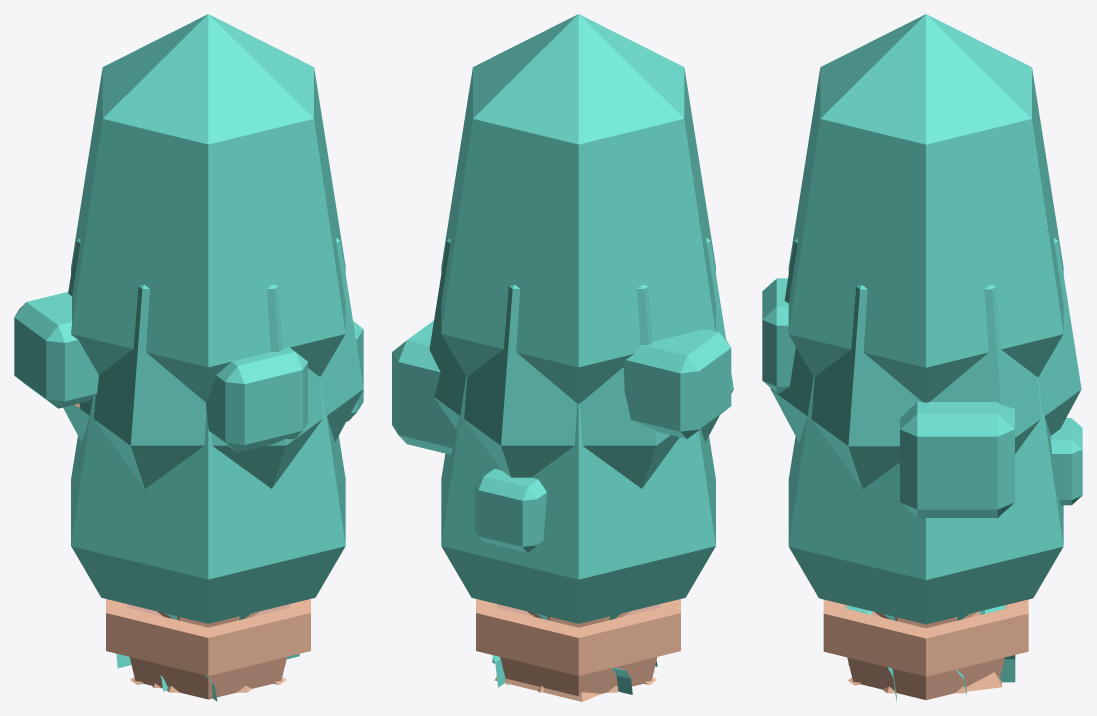
File: kenney-nature.glb
The picture shows the model from 3 angles, left to right: view 1: azimuth 30°, elevation 25°; view 2: azimuth 150°, elevation 25°; view 3: azimuth 270°, elevation 25°; orthographic projection.
Visible parts, largest first — view 1: tree_default, tree_fat, tree_oak, tree_detailed, pot_large; view 2: tree_default, tree_fat, tree_oak, tree_detailed, pot_large, grass_large; view 3: tree_default, tree_fat, tree_oak, tree_detailed, pot_large, grass_large.
Part boxes in pixels (x1,y1,x2,y2): tree_default: [71, 14, 345, 402]; tree_fat: [71, 376, 345, 623]; tree_oak: [63, 237, 363, 684]; tree_detailed: [14, 292, 363, 452]; pot_large: [106, 599, 310, 699]; tree_default: [441, 14, 715, 403]; tree_fat: [441, 376, 715, 623]; tree_oak: [429, 237, 733, 684]; tree_detailed: [392, 320, 731, 552]; pot_large: [476, 599, 680, 696]; grass_large: [492, 655, 657, 694]; tree_default: [788, 14, 1063, 402]; tree_fat: [788, 377, 1063, 624]; tree_oak: [770, 238, 1081, 685]; tree_detailed: [762, 278, 1082, 517]; pot_large: [823, 599, 1028, 699]; grass_large: [887, 655, 1015, 701].
Bounding box in the file's own units: 0.8471 × 1.71 × 0.7616.
